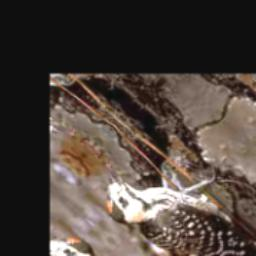Woodpecker: (75, 117, 256, 256)
